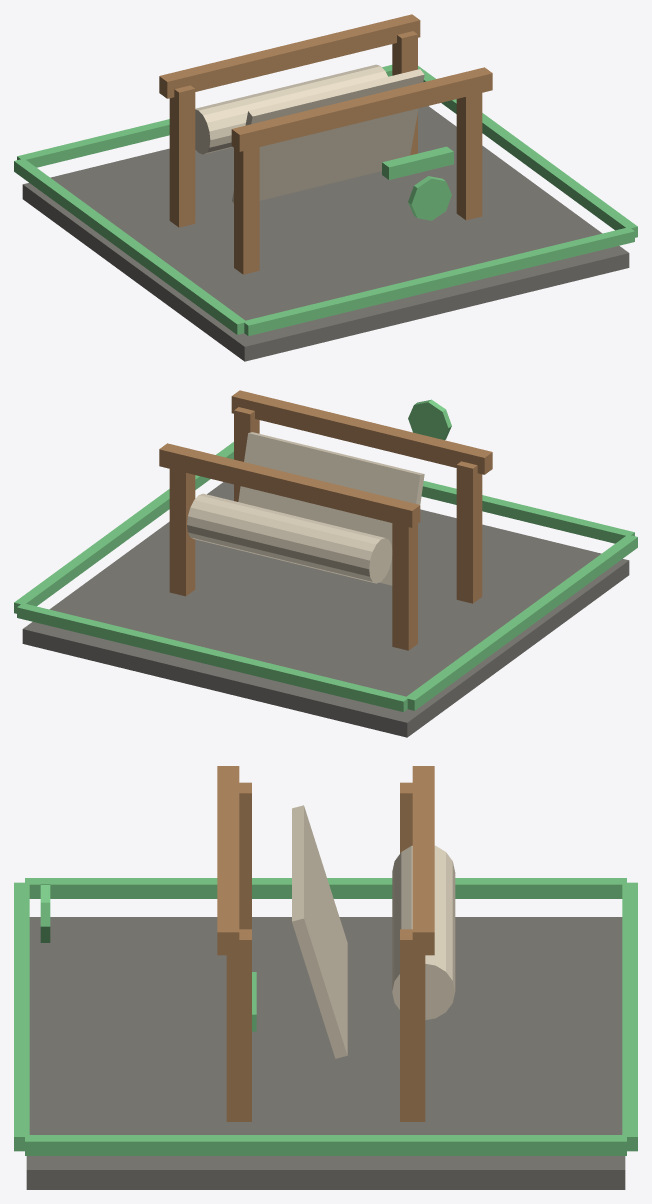
File: t3_loom.glb
The picture shows the model from 3 angles, top to bottom: view 1: azimuth 30°, elevation 25°; view 2: azimuth 150°, elevation 25°; view 3: azimuth 270°, elevation 25°; orthographic projection. The views are drawn at different scales.
Parts seen in each view (by area): view 1: FootprintBase, ClothSheet, FrontBeam, TierFrontTrim, BackBeam, TierLeftTrim, ClothRoll, FramePost.001, TierRightTrim, FramePost.002, FramePost, TierBackTrim (+3 smaller); view 2: FootprintBase, ClothRoll, ClothSheet, BackBeam, TierBackTrim, FrontBeam, TierLeftTrim, FramePost, TierRightTrim, FramePost.001, FramePost.003, TierFrontTrim (+2 smaller); view 3: FootprintBase, TierRightTrim, TierLeftTrim, ClothSheet, ClothRoll, FramePost.002, FramePost.003, BackBeam, FrontBeam, TierBackTrim, TierFrontTrim, FramePost (+2 smaller).
Part boxes in pixels (x1=…): FootprintBase: x1=22, y1=106, x2=629, y2=361; ClothSheet: x1=232, y1=69, x2=424, y2=202; FrontBeam: x1=231, y1=67, x2=492, y2=151; TierFrontTrim: x1=243, y1=227, x2=634, y2=335; BackBeam: x1=159, y1=14, x2=420, y2=98; TierLeftTrim: x1=14, y1=159, x2=244, y2=334; ClothRoll: x1=195, y1=64, x2=387, y2=154; FramePost.001: x1=169, y1=85, x2=195, y2=227; TierRightTrim: x1=418, y1=66, x2=637, y2=237; FramePost.002: x1=456, y1=93, x2=482, y2=220; FramePost: x1=234, y1=147, x2=259, y2=274; TierBackTrim: x1=17, y1=65, x2=392, y2=167; FootprintBase: x1=22, y1=482, x2=629, y2=737; ClothRoll: x1=187, y1=493, x2=392, y2=583; ClothSheet: x1=238, y1=432, x2=424, y2=585; BackBeam: x1=159, y1=443, x2=420, y2=527; TierBackTrim: x1=17, y1=603, x2=408, y2=711; FrontBeam: x1=231, y1=390, x2=492, y2=474; TierLeftTrim: x1=407, y1=535, x2=637, y2=710; FramePost: x1=456, y1=461, x2=482, y2=603; TierRightTrim: x1=14, y1=442, x2=233, y2=613; FramePost.001: x1=392, y1=523, x2=417, y2=650; FramePost.003: x1=169, y1=469, x2=195, y2=596; TierFrontTrim: x1=421, y1=481, x2=634, y2=543; FootprintBase: x1=26, y1=917, x2=625, y2=1189; TierRightTrim: x1=25, y1=1135, x2=626, y2=1155; TierLeftTrim: x1=25, y1=878, x2=626, y2=898; ClothSheet: x1=292, y1=805, x2=347, y2=1058; ClothRoll: x1=392, y1=845, x2=455, y2=1020; FramePost.002: x1=226, y1=929, x2=251, y2=1121; FramePost.003: x1=400, y1=929, x2=425, y2=1121; BackBeam: x1=412, y1=766, x2=434, y2=955; FrontBeam: x1=217, y1=766, x2=239, y2=955; TierBackTrim: x1=622, y1=882, x2=637, y2=1151; TierFrontTrim: x1=14, y1=882, x2=29, y2=1151; FramePost: x1=239, y1=782, x2=251, y2=929.
Size of the model in its own units: 3.96 by 1.5 by 3.96.
